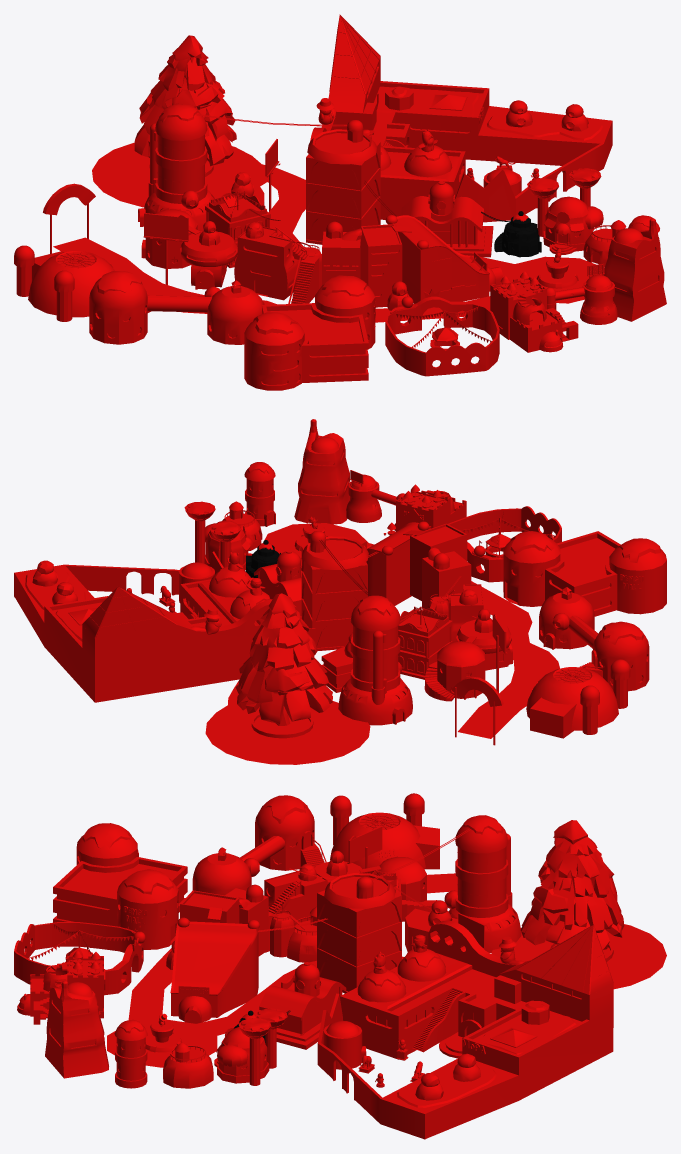
Rendered from Neighborhood_PenguPlaza_03.glb.
The picture shows the model from 3 angles, top to bottom: view 1: azimuth 30°, elevation 25°; view 2: azimuth 150°, elevation 25°; view 3: azimuth 270°, elevation 25°; orthographic projection. The views are drawn at different scales.
Visible parts, largest first — view 1: pasted__polySurface204, pasted__polySurface198, pasted__pCylinder3, pasted__pCylinder31, pasted__pCube113, pasted__pasted__pasted__Tree_17, pasted__pasted__typeMesh2, pasted__polySurface200, pasted__pSphere35, pasted__polySurface194, pasted__pSphere43, pasted__pasted__polySurface16 (+23 smaller); view 2: pasted__polySurface204, pasted__pCylinder3, pasted__polySurface198, pasted__pasted__pasted__Tree_17, pasted__pCylinder31, pasted__pSphere35, pasted__polySurface194, pasted__pCube113, pasted__pSphere43, pasted__polySurface200, pasted__pasted__typeMesh2, pasted__pasted__polySurface90 (+25 smaller); view 3: pasted__polySurface204, pasted__polySurface198, pasted__pCylinder3, pasted__pasted__pasted__Tree_17, pasted__pCylinder31, pasted__pasted__typeMesh2, pasted__pSphere35, pasted__pCube113, pasted__pSphere43, pasted__polySurface194, pasted__polySurface200, pasted__polySurface188 (+24 smaller).
Part boxes in pixels (x1=…): pasted__polySurface204: x1=310, y1=14, x2=612, y2=222; pasted__polySurface198: x1=244, y1=284, x2=375, y2=390; pasted__pCylinder3: x1=53, y1=142, x2=601, y2=322; pasted__pCylinder31: x1=306, y1=120, x2=380, y2=244; pasted__pCube113: x1=89, y1=277, x2=264, y2=344; pasted__pasted__pasted__Tree_17: x1=134, y1=35, x2=236, y2=166; pasted__pasted__typeMesh2: x1=364, y1=180, x2=502, y2=303; pasted__polySurface200: x1=385, y1=289, x2=499, y2=376; pasted__pSphere35: x1=144, y1=112, x2=214, y2=231; pasted__polySurface194: x1=14, y1=245, x2=114, y2=321; pasted__pSphere43: x1=603, y1=218, x2=666, y2=321; pasted__pasted__polySurface16: x1=490, y1=276, x2=578, y2=352; pasted__polySurface204: x1=14, y1=551, x2=272, y2=702; pasted__pCylinder3: x1=205, y1=523, x2=559, y2=764; pasted__polySurface198: x1=503, y1=531, x2=666, y2=616; pasted__pasted__pasted__Tree_17: x1=235, y1=593, x2=332, y2=725; pasted__pCylinder31: x1=301, y1=531, x2=368, y2=651; pasted__pSphere35: x1=338, y1=601, x2=412, y2=725; pasted__polySurface194: x1=526, y1=659, x2=630, y2=738; pasted__pCube113: x1=539, y1=587, x2=649, y2=691; pasted__pSphere43: x1=294, y1=419, x2=349, y2=524; pasted__polySurface200: x1=448, y1=506, x2=561, y2=582; pasted__pasted__typeMesh2: x1=361, y1=522, x2=431, y2=605; pasted__pasted__polySurface90: x1=398, y1=606, x2=452, y2=679; pasted__polySurface204: x1=317, y1=920, x2=613, y2=1139; pasted__polySurface198: x1=53, y1=835, x2=187, y2=949; pasted__pCylinder3: x1=107, y1=873, x2=666, y2=1067; pasted__pasted__pasted__Tree_17: x1=520, y1=820, x2=624, y2=949; pasted__pCylinder31: x1=317, y1=873, x2=401, y2=993; pasted__pasted__typeMesh2: x1=170, y1=907, x2=327, y2=1023; pasted__pSphere35: x1=448, y1=823, x2=521, y2=952; pasted__pCube113: x1=192, y1=804, x2=326, y2=895; pasted__pSphere43: x1=45, y1=981, x2=108, y2=1078; pasted__polySurface194: x1=330, y1=793, x2=439, y2=869; pasted__polySurface200: x1=14, y1=922, x2=143, y2=995; pasted__polySurface188: x1=259, y1=962, x2=346, y2=1049.
Bounding box in the file's own units: 67.72 × 16.94 × 62.11.
